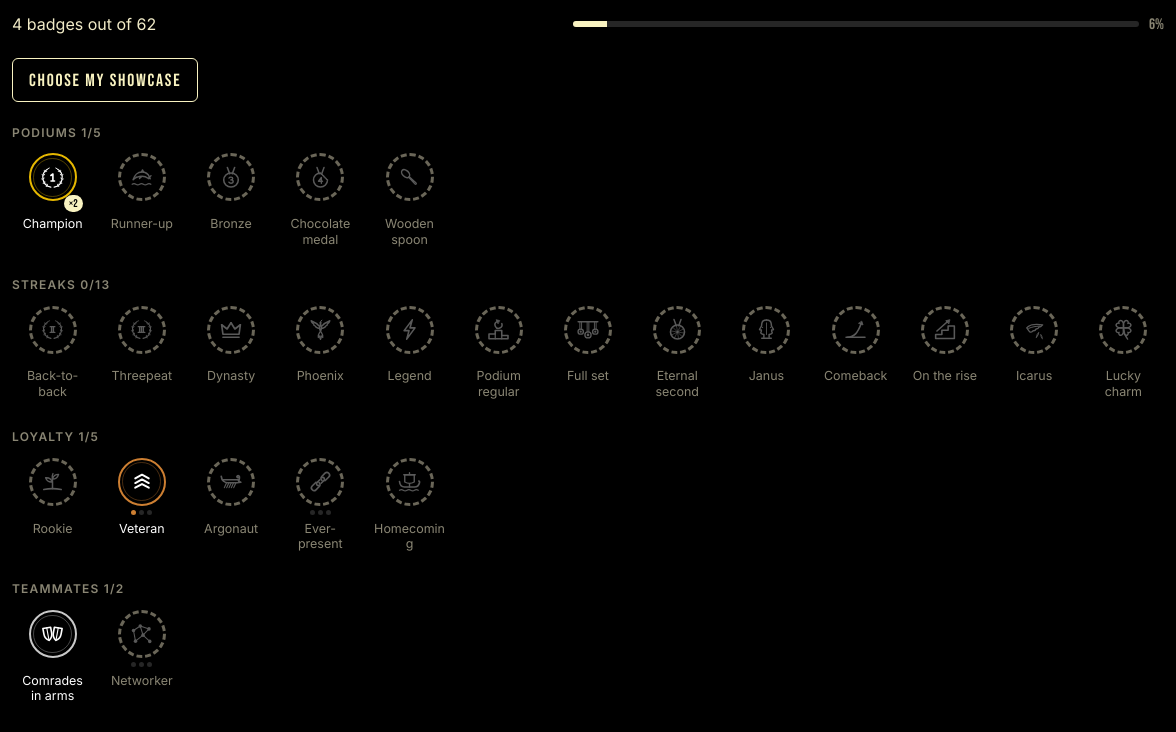
Test: BadgeCollection showcase selection (the owner) › stays in the mode with an alert when the action fails, the picks kept
Click the button "Choose my showcase": x=105, y=80 [12,58,198,102]
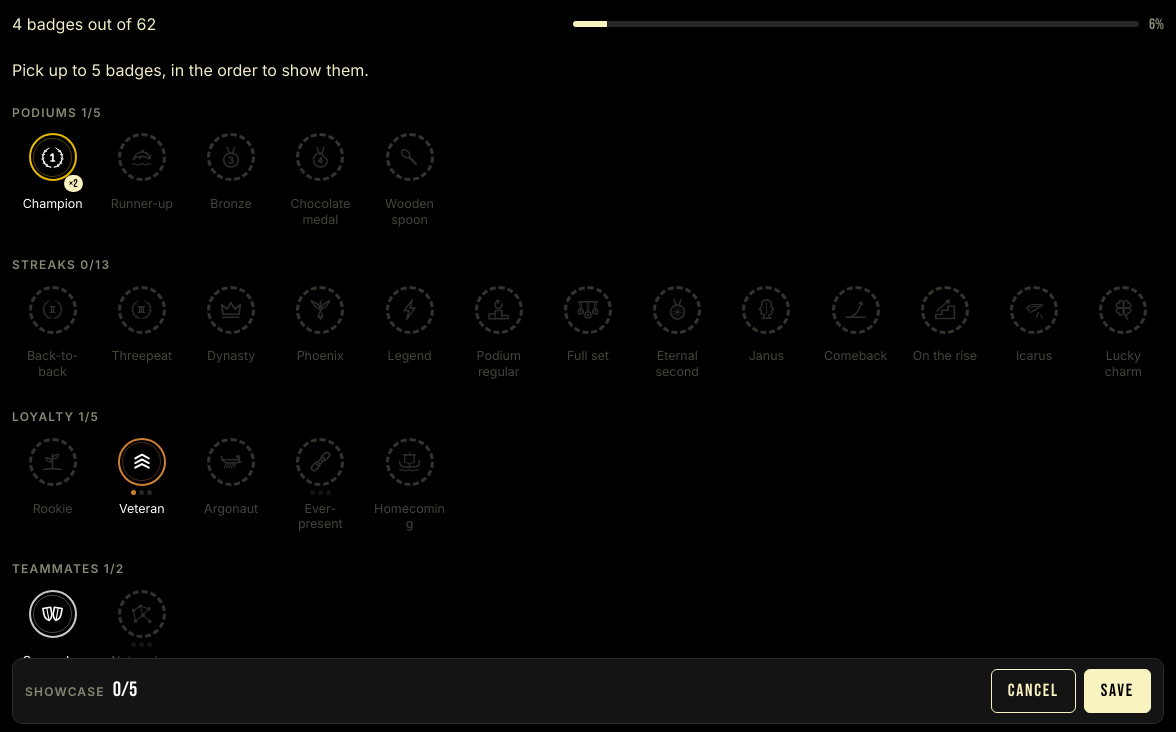
Click the button "Veteran": x=142, y=485 [101,434,182,536]
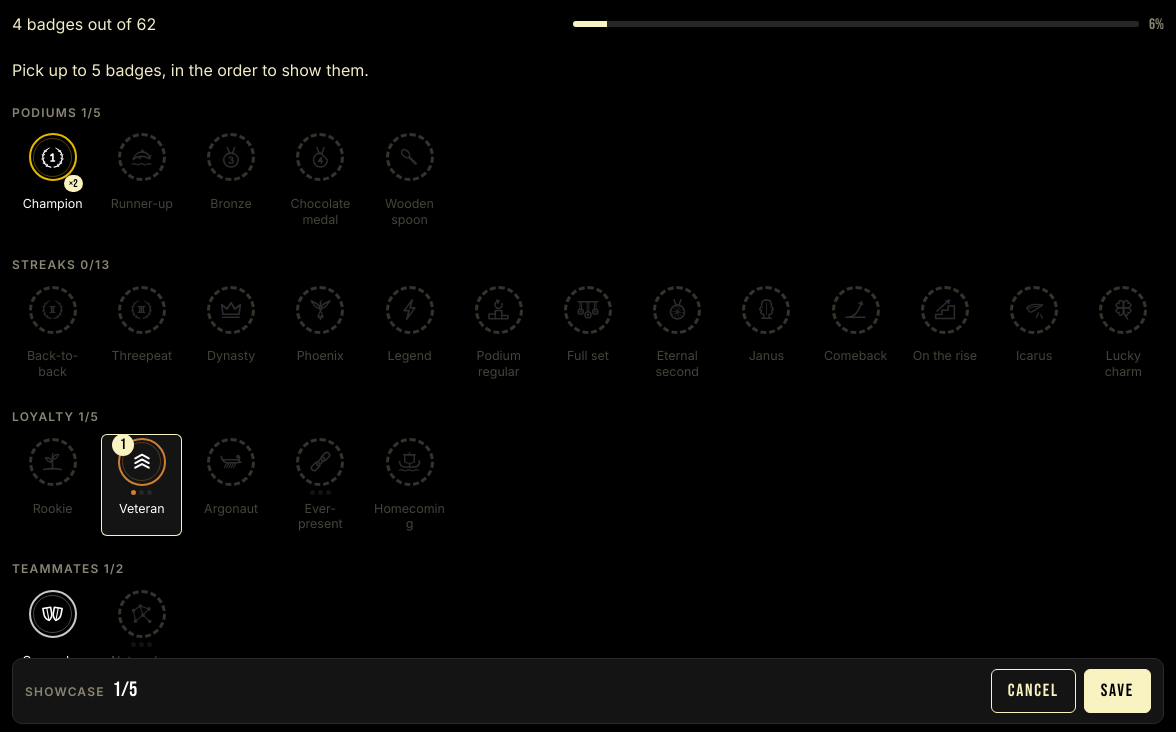
Click the button "Save": x=1117, y=691 [1084,669,1151,713]
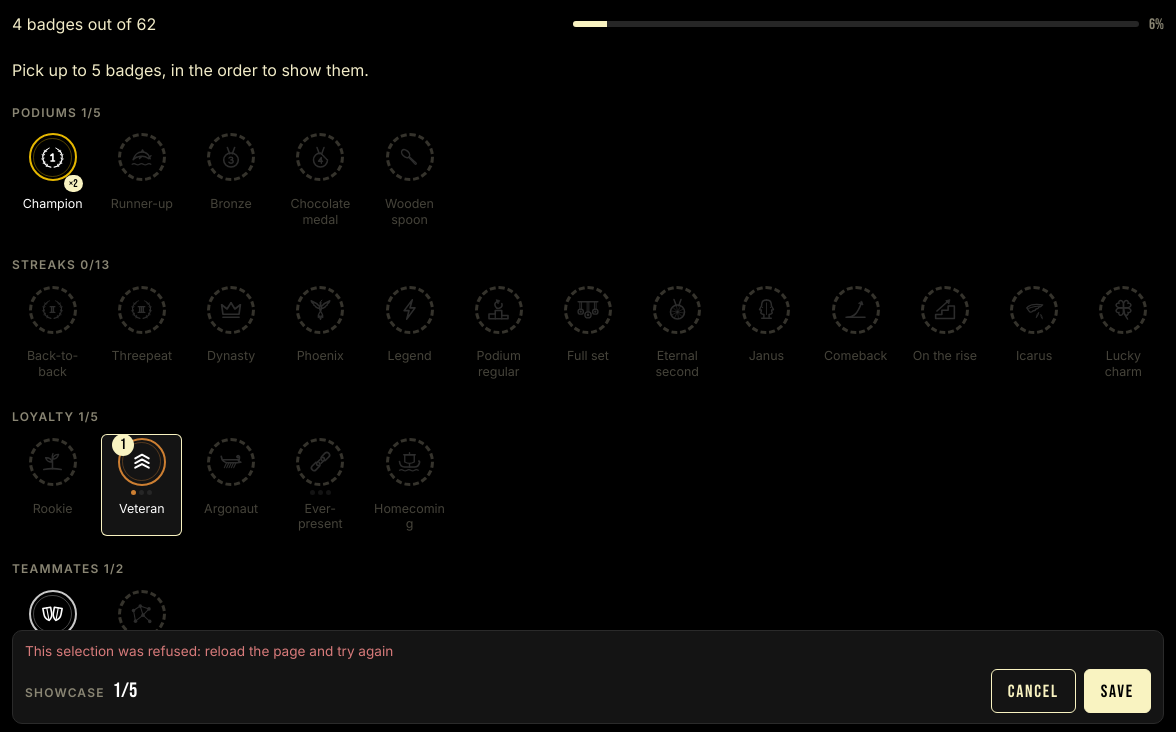
Expected: the message "This selection was refused: reload the page and try again" is shown, [25,643,393,659]
